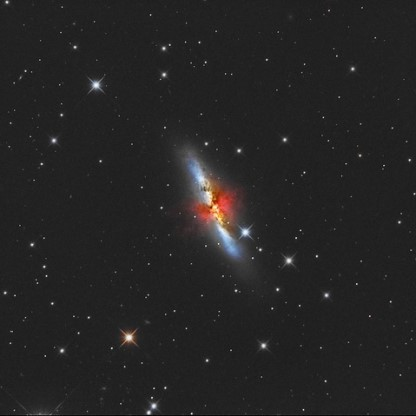Messier 82: (166, 134, 259, 281)
